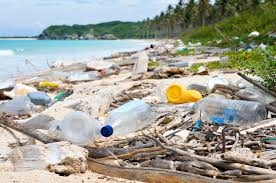plastic: (186, 97, 269, 129), (98, 98, 158, 137), (56, 108, 105, 145), (163, 82, 204, 105)
